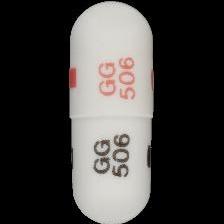61786-910: (0, 0, 224, 224)
